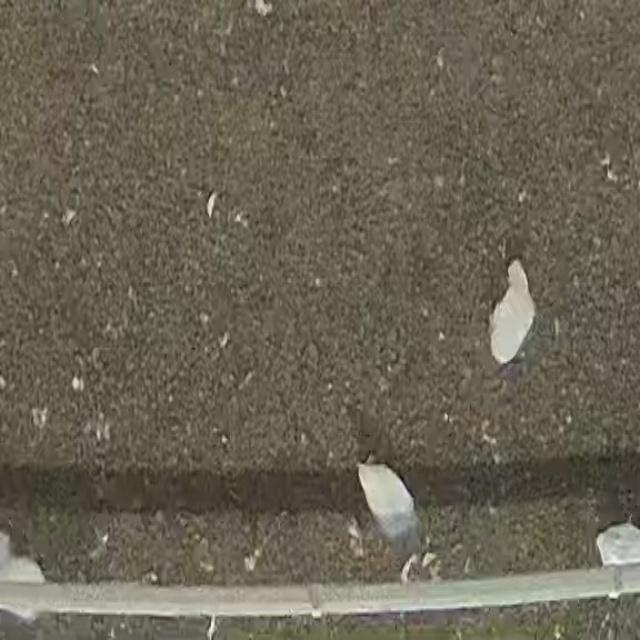chicken: (350, 454, 423, 539), (486, 254, 538, 367)
